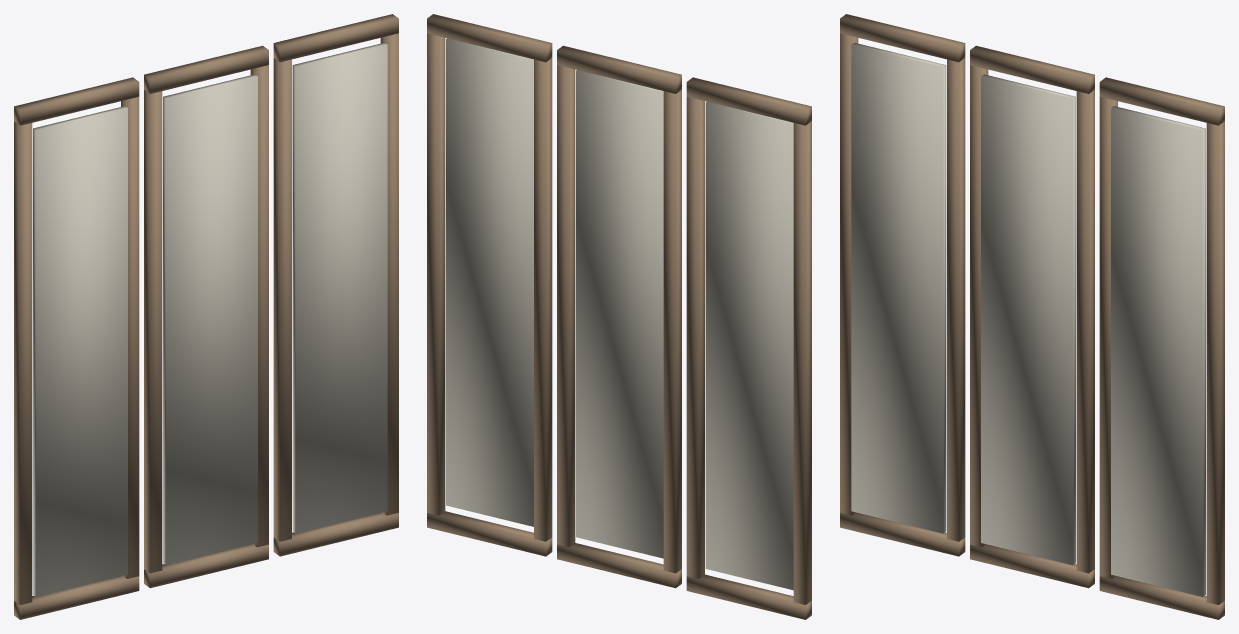
Rendered from funeral_folding_screen__tall.glb.
The picture shows the model from 3 angles, left to right: view 1: azimuth 30°, elevation 25°; view 2: azimuth 150°, elevation 25°; view 3: azimuth 330°, elevation 25°; orthographic projection.
Parts seen in each view (by area): view 1: world; view 2: world; view 3: world.
Part boxes in pixels (x1,y1,x2,y2): world: (14,14,398,619); world: (427,14,811,619); world: (840,14,1224,619).
Bounding box in the file's own units: 1.4 × 1.8 × 0.055.
